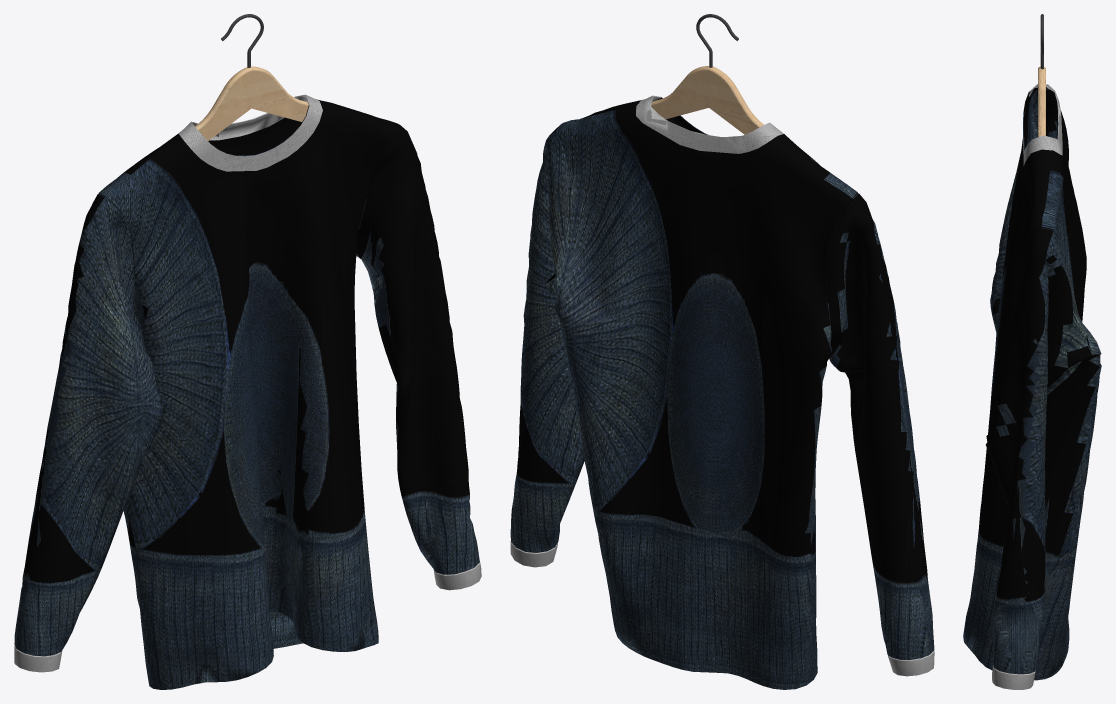
The model's file is shirt 6.FBX.
The picture shows the model from 3 angles, left to right: view 1: azimuth 30°, elevation 25°; view 2: azimuth 150°, elevation 25°; view 3: azimuth 270°, elevation 25°; orthographic projection. The views are drawn at different scales.
Parts seen in each view (by area): view 1: shirt 6, hanger; view 2: shirt 6, hanger; view 3: shirt 6, hanger.
Part boxes in pixels (x1,y1,x2,y2): shirt 6: (14, 94, 481, 689); hanger: (195, 14, 308, 140); shirt 6: (510, 95, 934, 689); hanger: (651, 14, 763, 134); shirt 6: (963, 84, 1101, 689); hanger: (1038, 14, 1045, 137).
Bounding box in the file's own units: 629 × 180 × 890.
